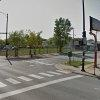Crosswalk: (7, 64, 74, 93)
